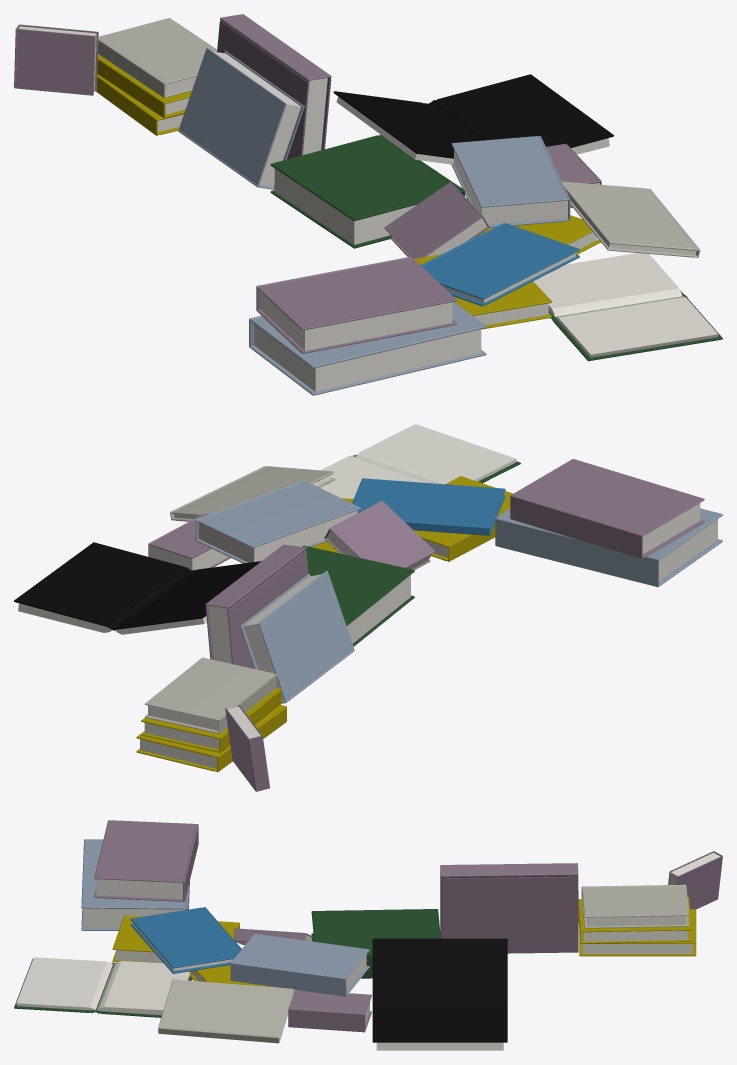
File: book_barrier_closet.fbx
3 views of the same model, one above another, from view 1: azimuth 30°, elevation 25°; view 2: azimuth 150°, elevation 25°; view 3: azimuth 270°, elevation 25° (orthographic). The views are drawn at different scales.
Visible parts, largest first — view 1: pCube341, polySurface1309, polySurface1308, pCube347, pCube352, pCube340, pCube349, pCube342, pCube351, pCube346, pCube355, pCube356 (+6 smaller); view 2: polySurface1309, pCube341, pCube352, pCube349, polySurface1308, pCube340, pCube355, pCube342, pCube351, pCube347, pCube348, pCube346 (+5 smaller); view 3: polySurface1309, pCube351, polySurface1308, pCube341, pCube346, pCube349, pCube342, pCube355, pCube347, pCube340, pCube350, pCube354 (+5 smaller).
Part boxes in pixels (<box>): pCube341: <box>256,256,457,353</box>; polySurface1309: <box>333,74,613,164</box>; polySurface1308: <box>533,253,722,361</box>; pCube347: <box>270,134,464,248</box>; pCube352: <box>178,48,304,189</box>; pCube340: <box>249,302,486,395</box>; pCube349: <box>451,136,570,227</box>; pCube342: <box>420,222,579,306</box>; pCube351: <box>217,14,331,159</box>; pCube346: <box>562,181,700,257</box>; pCube355: <box>98,18,217,98</box>; pCube356: <box>14,24,98,95</box>; polySurface1309: <box>14,542,261,634</box>; pCube341: <box>510,459,704,559</box>; pCube352: <box>240,571,354,703</box>; pCube349: <box>195,480,361,563</box>; polySurface1308: <box>320,424,520,498</box>; pCube340: <box>495,508,722,587</box>; pCube355: <box>144,657,276,733</box>; pCube342: <box>352,478,505,535</box>; pCube351: <box>205,544,308,668</box>; pCube347: <box>302,545,414,646</box>; pCube348: <box>324,500,435,569</box>; pCube346: <box>170,466,335,521</box>; polySurface1309: <box>372,938,507,1050</box>; pCube351: <box>440,863,578,953</box>; polySurface1308: <box>14,957,192,1017</box>; pCube341: <box>94,820,198,901</box>; pCube346: <box>158,979,293,1043</box>; pCube349: <box>230,933,369,996</box>; pCube342: <box>130,907,241,973</box>; pCube355: <box>581,884,689,928</box>; pCube347: <box>311,909,440,978</box>; pCube340: <box>81,839,189,930</box>; pCube350: <box>288,990,371,1032</box>; pCube354: <box>578,897,691,943</box>.
Bounding box in the file's own units: 26.32 × 5.5 × 41.62.
